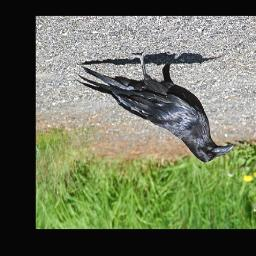Crow: (71, 47, 234, 163)
